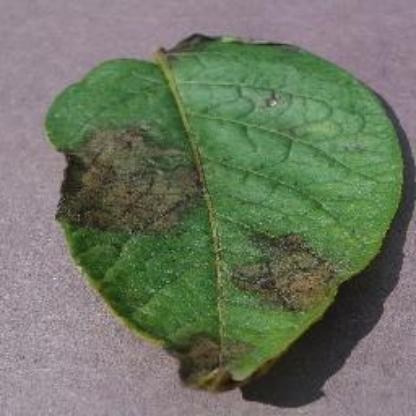Late-Blight: (44, 31, 408, 391)
